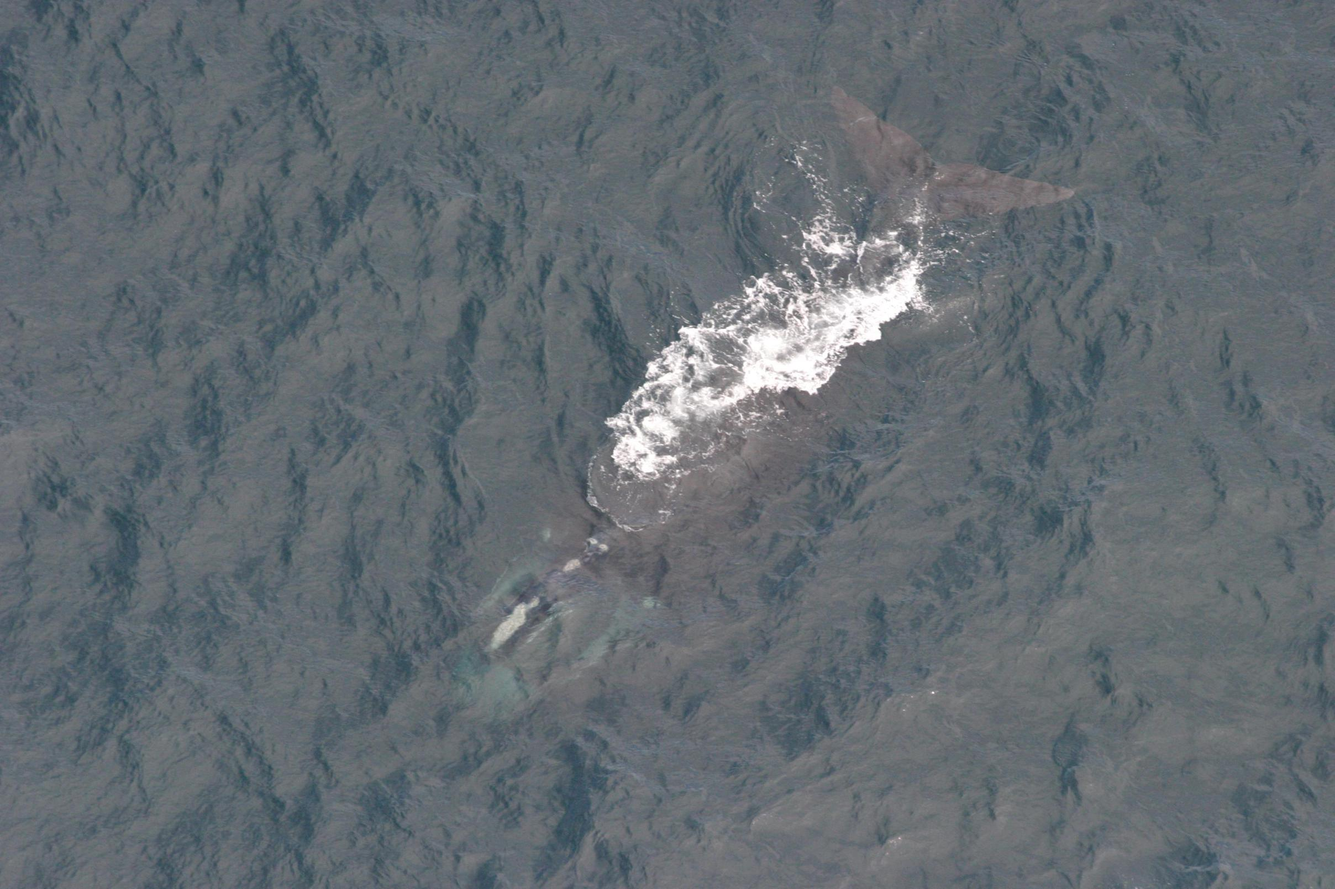whale: (449, 68, 1089, 729)
